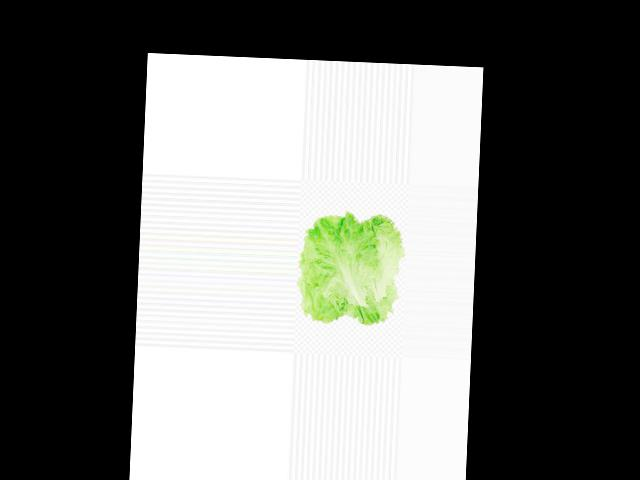lettuce: (300, 207, 392, 322)
